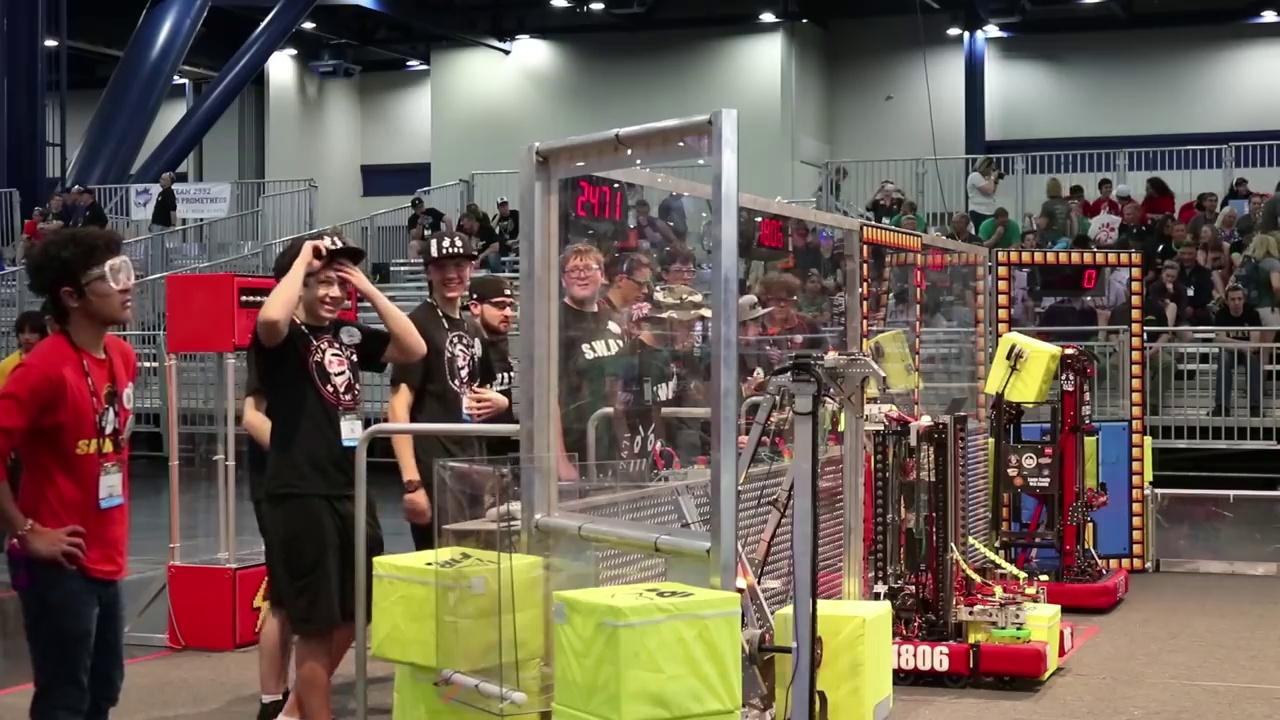robot: (813, 354, 1076, 689), (973, 351, 1131, 619)
